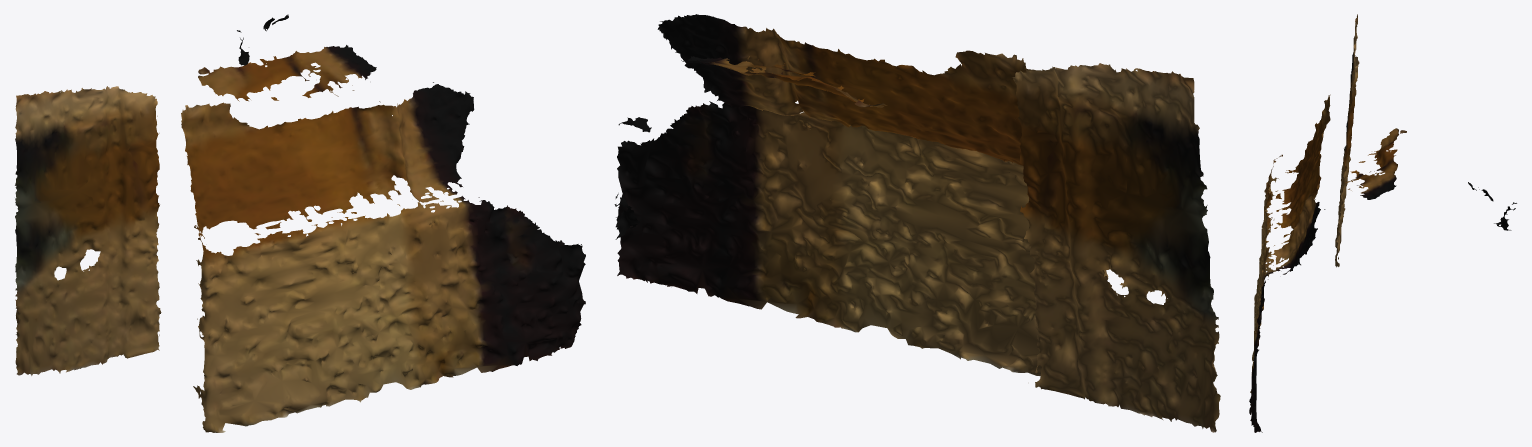
File: color_model_f001_20260211_234559.obj
3 views of the same model, side by side, from view 1: azimuth 30°, elevation 25°; view 2: azimuth 150°, elevation 25°; view 3: azimuth 270°, elevation 25° (orthographic). The views are drawn at different scales.
Size of the model in its own units: 2.11 by 1.27 by 1.28.
